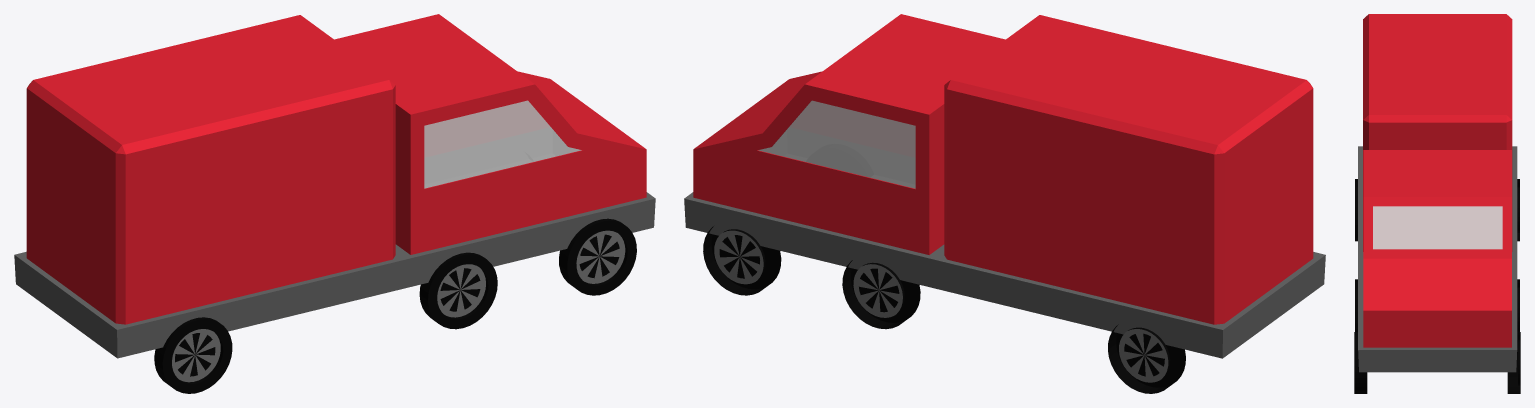
The model's file is TruckIdle_TFSGJ_Spring2025.fbx.
3 views of the same model, side by side, from view 1: azimuth 30°, elevation 25°; view 2: azimuth 150°, elevation 25°; view 3: azimuth 270°, elevation 25° (orthographic). The views are drawn at different scales.
Visible parts, largest first — view 1: Truck, Tire.003, Tire.005, Tire.004; view 2: Truck, Tire, Tire.001, Tire.002; view 3: Truck, Tire.003, Tire, Tire.002, Tire.005.
Part boxes in pixels (x1,y1,x2,y2): Truck: (14, 14, 655, 358); Tire.003: (559, 218, 636, 295); Tire.005: (154, 317, 232, 393); Tire.004: (419, 252, 497, 329); Truck: (684, 14, 1325, 358); Tire: (703, 226, 781, 295); Tire.001: (842, 260, 920, 329); Tire.002: (1108, 324, 1185, 393); Truck: (1358, 14, 1517, 372); Tire.003: (1354, 332, 1367, 393); Tire: (1507, 332, 1520, 393); Tire.002: (1517, 179, 1519, 241); Tire.005: (1355, 179, 1357, 241).
Size of the model in its own units: 260 by 119 by 89.85.
